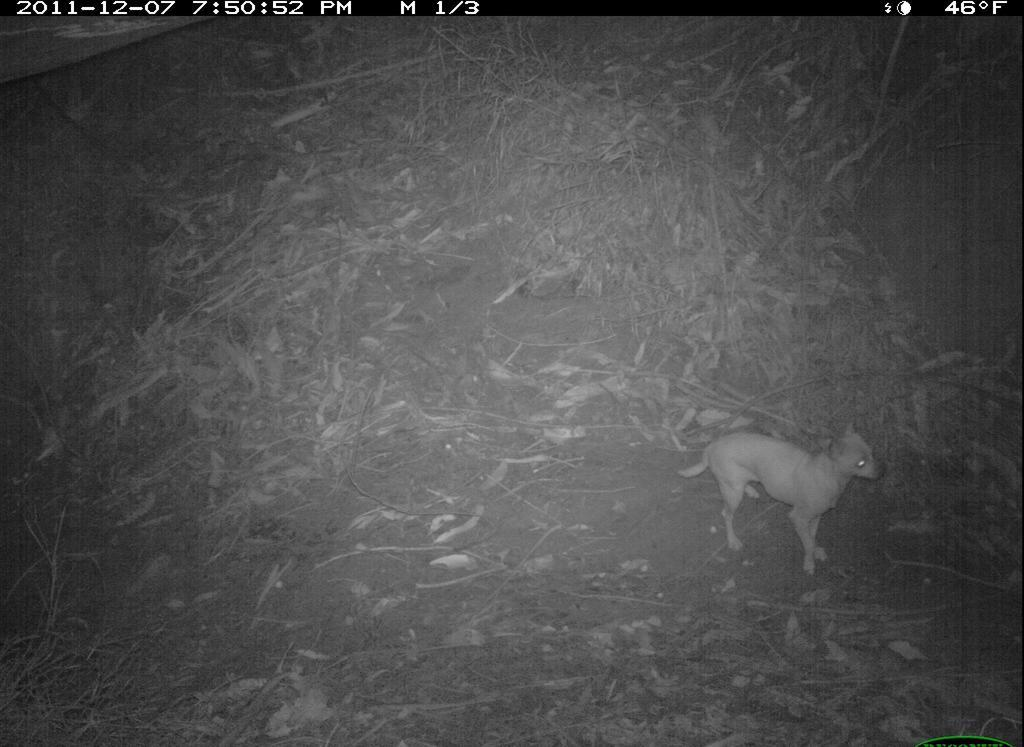dog: (675, 417, 890, 578)
